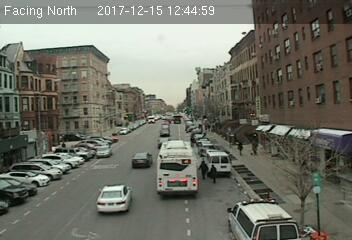bus: (156, 140, 199, 197)
car: (96, 185, 134, 214), (130, 152, 153, 167), (95, 146, 111, 157)
pedestrian: (199, 159, 208, 182), (209, 164, 217, 185), (250, 137, 259, 155), (237, 141, 244, 157)
police: (226, 197, 304, 239)
truck: (208, 151, 233, 175)
